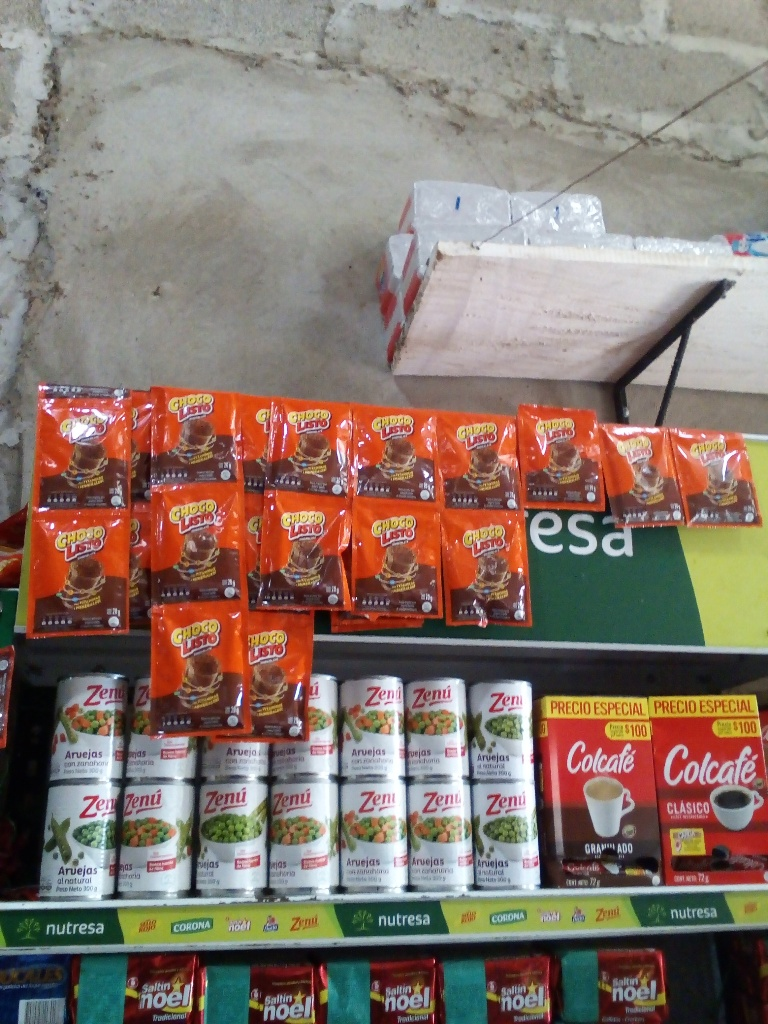COL0170103SOB02000: (34, 386, 131, 509)
